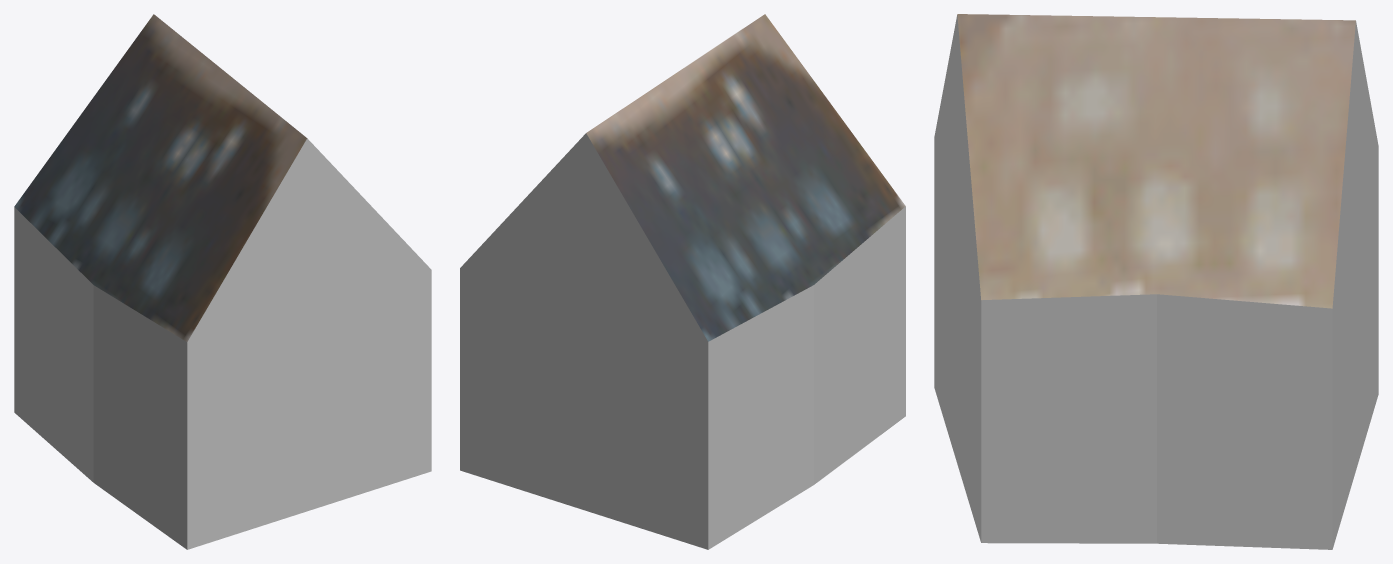
The model's file is DEBW_0010007Txfk.gltf.
3 views of the same model, side by side, from view 1: azimuth 30°, elevation 25°; view 2: azimuth 150°, elevation 25°; view 3: azimuth 270°, elevation 25° (orthographic). The views are drawn at different scales.
Visible parts, largest first — view 1: Z_UP; view 2: Z_UP; view 3: Z_UP.
Boxes of the visible parts, x1,y1,x2,y2 form: Z_UP: (14,14,431,549); Z_UP: (460,14,905,549); Z_UP: (934,14,1378,549).
Size of the model in its own units: 10.46 by 13.48 by 12.05.
Materials: 2 (1 with a texture image).
